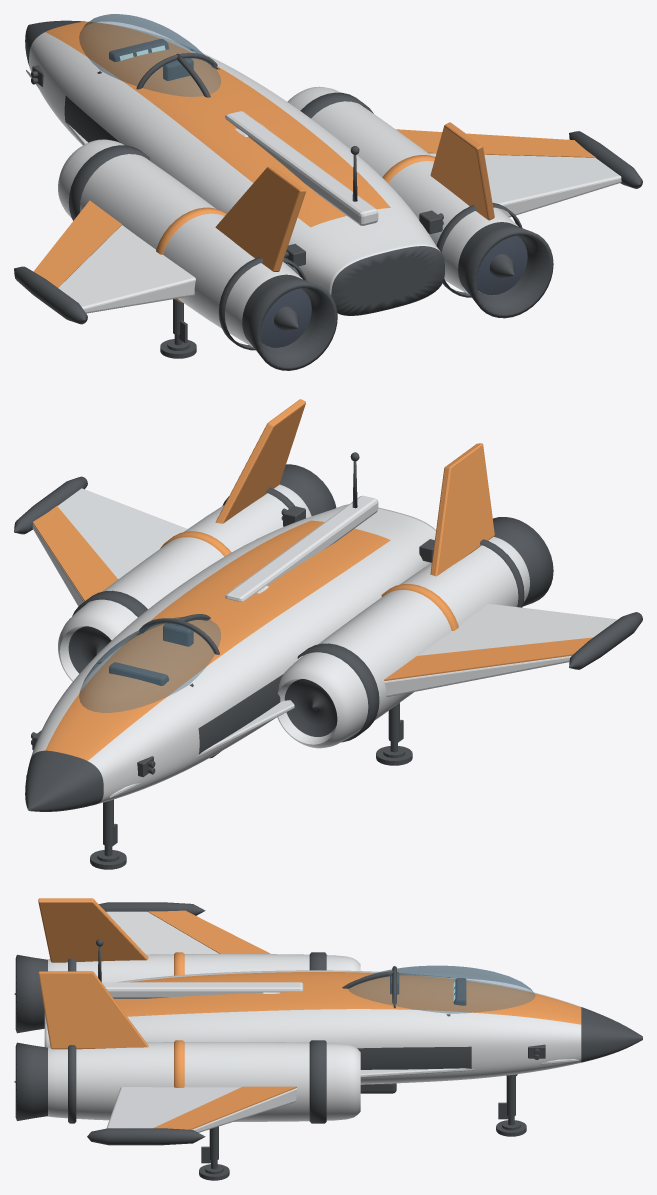
The model's file is Ship_Explorer.fbx.
The picture shows the model from 3 angles, top to bottom: view 1: azimuth 30°, elevation 25°; view 2: azimuth 150°, elevation 25°; view 3: azimuth 270°, elevation 25°; orthographic projection. The views are drawn at different scales.
Parts seen in each view (by area): view 1: SHIP_Fuselage, SHIP_Engine_L, SHIP_Engine_R, SHIP_Canopy, SHIP_Wing_L, SHIP_Wing_R, SHIP_Fin_L, SHIP_Nozzle_L, SHIP_Nozzle_R, SHIP_Spine, SHIP_Fin_R, SHIP_WingStripe_L (+15 smaller); view 2: SHIP_Fuselage, SHIP_Engine_L, SHIP_Engine_R, SHIP_Canopy, SHIP_Wing_L, SHIP_Wing_R, SHIP_Fin_L, SHIP_Fin_R, SHIP_WingStripe_L, SHIP_Spine, SHIP_WingStripe_R, SHIP_Nozzle_L (+13 smaller); view 3: SHIP_Fuselage, SHIP_Engine_R, SHIP_Canopy, SHIP_Fin_R, SHIP_Fin_L, SHIP_Engine_L, SHIP_Wing_R, SHIP_Spine, SHIP_Wing_L, SHIP_Nozzle_R, SHIP_WingStripe_R, SHIP_Nozzle_L (+10 smaller).
Part boxes in pixels (<box>): SHIP_Fuselage: <box>25,20,444,315</box>; SHIP_Engine_L: <box>58,139,302,346</box>; SHIP_Engine_R: <box>287,86,521,294</box>; SHIP_Canopy: <box>79,14,220,96</box>; SHIP_Wing_L: <box>58,225,195,313</box>; SHIP_Wing_R: <box>429,153,621,217</box>; SHIP_Fin_L: <box>215,166,305,271</box>; SHIP_Nozzle_L: <box>242,274,337,370</box>; SHIP_Nozzle_R: <box>458,222,553,318</box>; SHIP_Spine: <box>225,111,378,225</box>; SHIP_Fin_R: <box>430,122,494,220</box>; SHIP_WingStripe_L: <box>33,200,121,287</box>; SHIP_Fuselage: <box>25,504,435,811</box>; SHIP_Engine_L: <box>277,537,529,748</box>; SHIP_Engine_R: <box>58,484,311,681</box>; SHIP_Canopy: <box>79,616,220,712</box>; SHIP_Wing_L: <box>384,603,617,696</box>; SHIP_Wing_R: <box>32,488,187,606</box>; SHIP_Fin_L: <box>430,443,494,576</box>; SHIP_Fin_R: <box>215,399,305,523</box>; SHIP_WingStripe_L: <box>384,637,592,680</box>; SHIP_Spine: <box>225,495,378,601</box>; SHIP_WingStripe_R: <box>33,506,117,601</box>; SHIP_Nozzle_L: <box>493,517,553,606</box>; SHIP_Fuselage: <box>44,970,642,1084</box>; SHIP_Engine_R: <box>48,1042,360,1121</box>; SHIP_Canopy: <box>348,965,535,1013</box>; SHIP_Fin_R: <box>38,971,148,1049</box>; SHIP_Fin_L: <box>38,898,148,962</box>; SHIP_Engine_L: <box>48,954,360,982</box>; SHIP_Wing_R: <box>106,1087,297,1132</box>; SHIP_Spine: <box>102,982,303,998</box>; SHIP_Wing_L: <box>106,911,219,954</box>; SHIP_Nozzle_R: <box>15,1042,47,1120</box>; SHIP_WingStripe_R: <box>153,1086,296,1129</box>; SHIP_Nozzle_L: <box>15,954,47,1033</box>.
Size of the model in its own units: 13 by 5.07 by 14.82.
